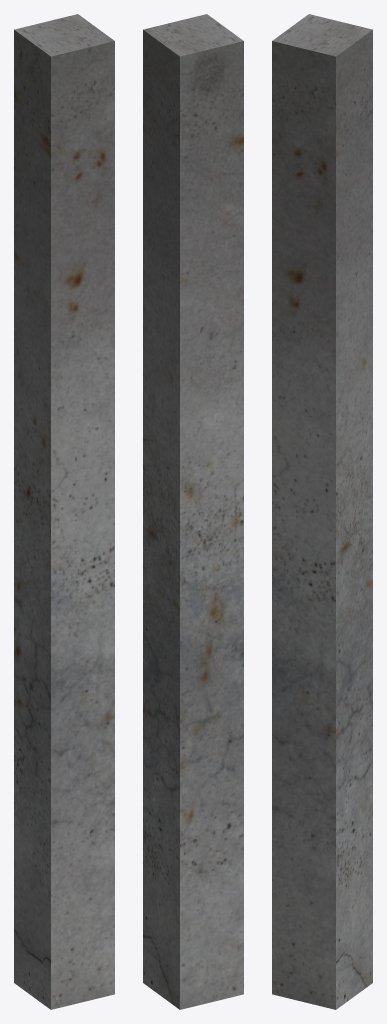
Rendered from Bet_stolb_004-1.fbx.
3 renders of one model, left to right at view 1: azimuth 30°, elevation 25°; view 2: azimuth 210°, elevation 25°; view 3: azimuth 330°, elevation 25°, orthographic.
Parts seen in each view (by area): view 1: Plane.002_dmg.005; view 2: Plane.002_dmg.005; view 3: Plane.002_dmg.005.
Part boxes in pixels (x1,y1,x2,y2): Plane.002_dmg.005: (14, 14, 114, 1009); Plane.002_dmg.005: (143, 14, 243, 1009); Plane.002_dmg.005: (272, 14, 372, 1009).
Size of the model in its own units: 40 by 570 by 40.
